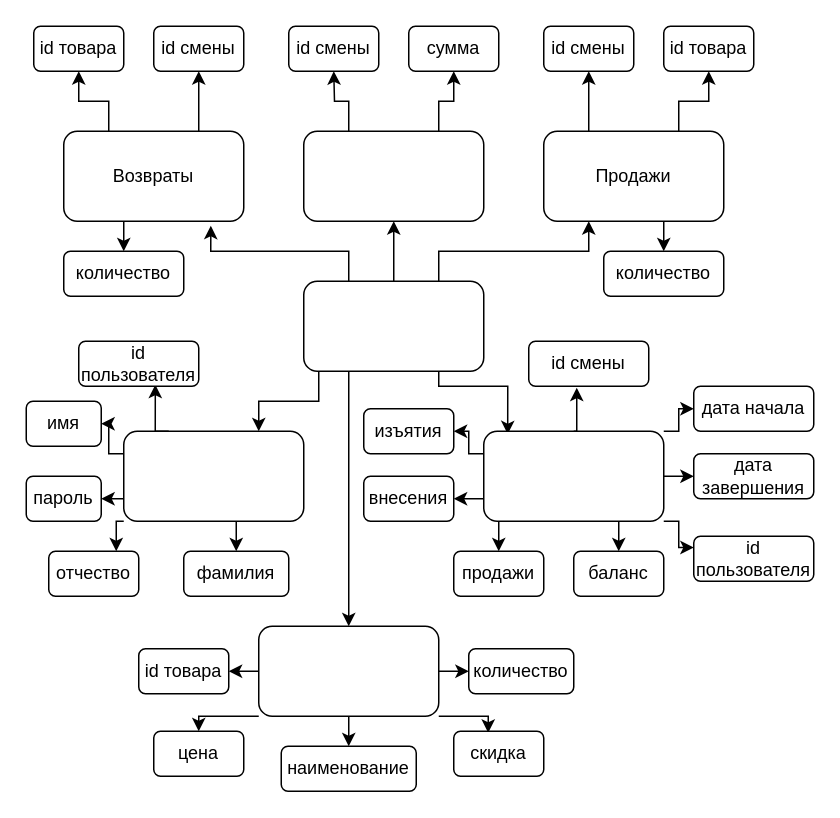
The diagram is 840 pixels wide and 818 high, and some of its shapes have lost their labels. The shapes that lost their labels are listed below. From the top down, each one's centre as x and y in pixels, then its label:
At (x=393, y=175): "Товары со свободной ценой".
At (x=393, y=325): "Касса".
At (x=213, y=475): "Пользователи".
At (x=573, y=475): "Смена".
At (x=348, y=670): "Товары".
